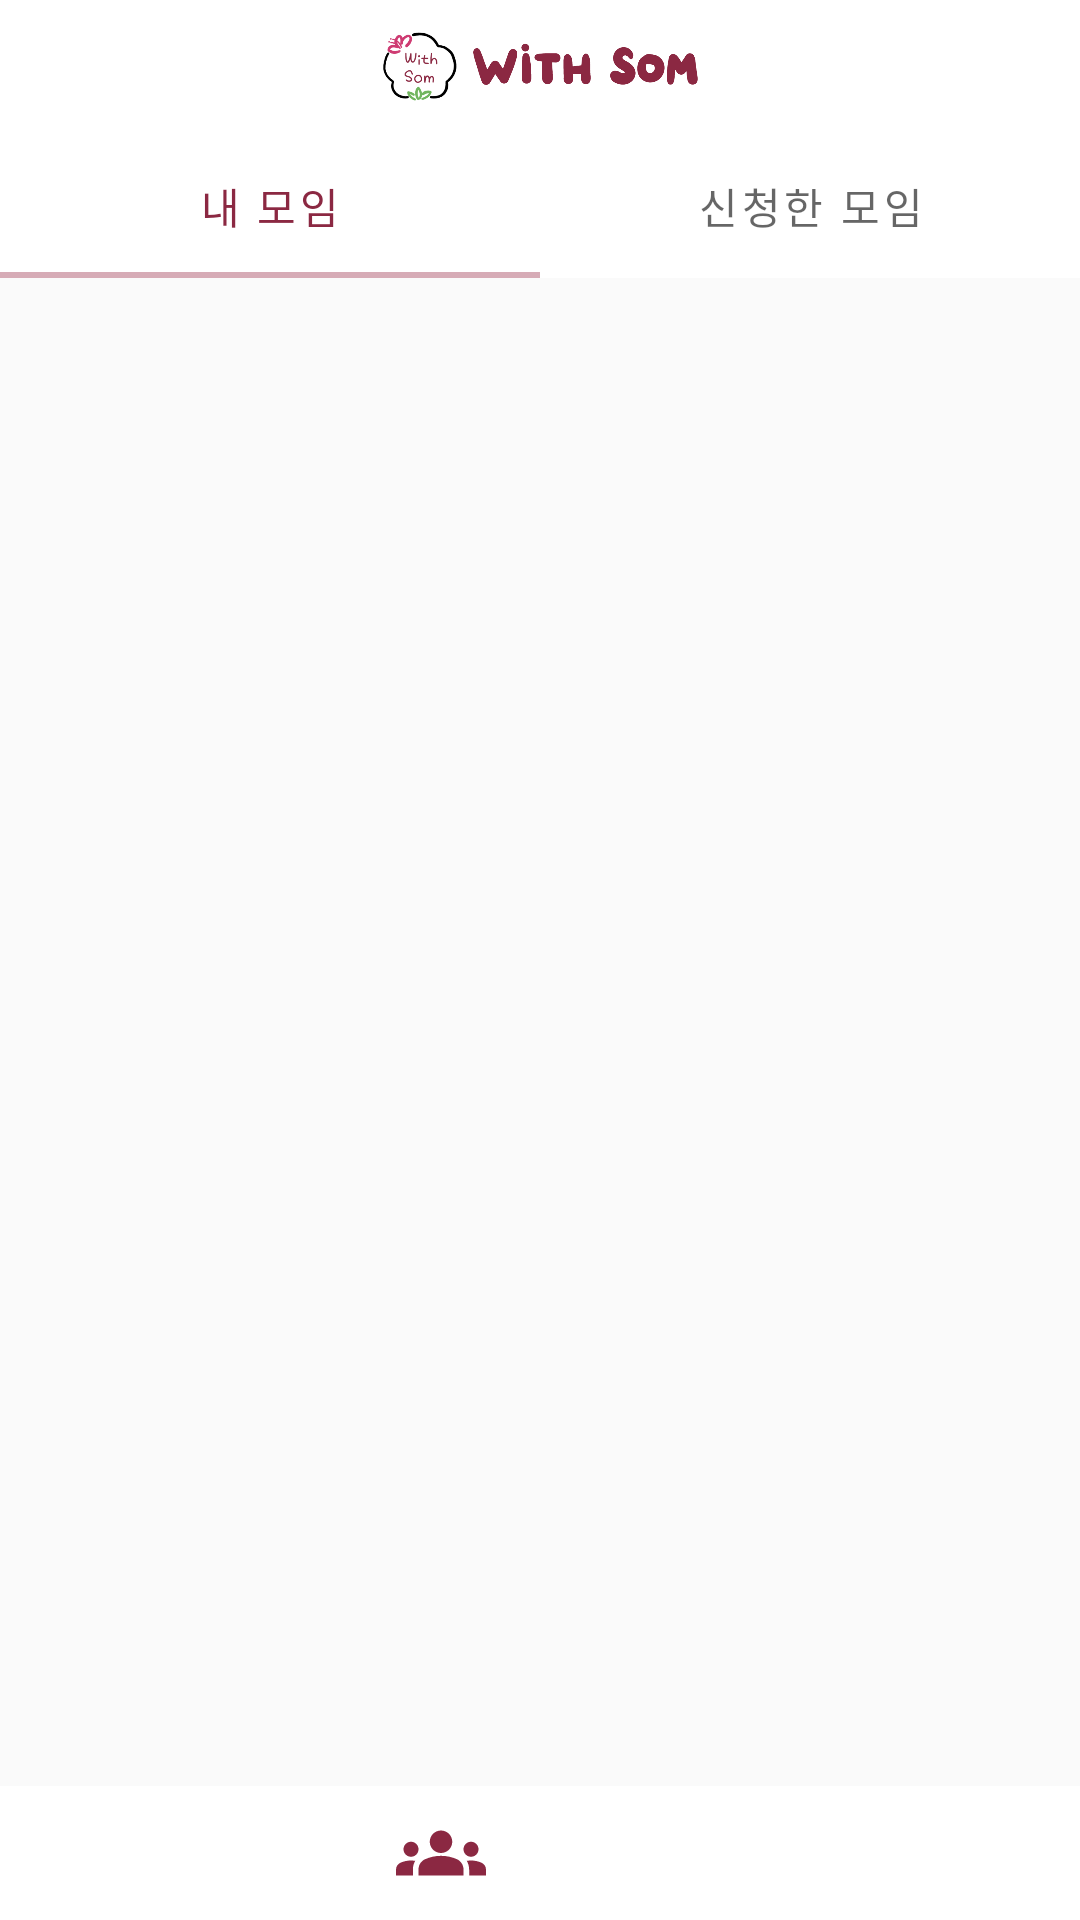

Icons on this 1080*1920 Android screen, each with the point to tap as (x,y):
groups: (441,1853)
